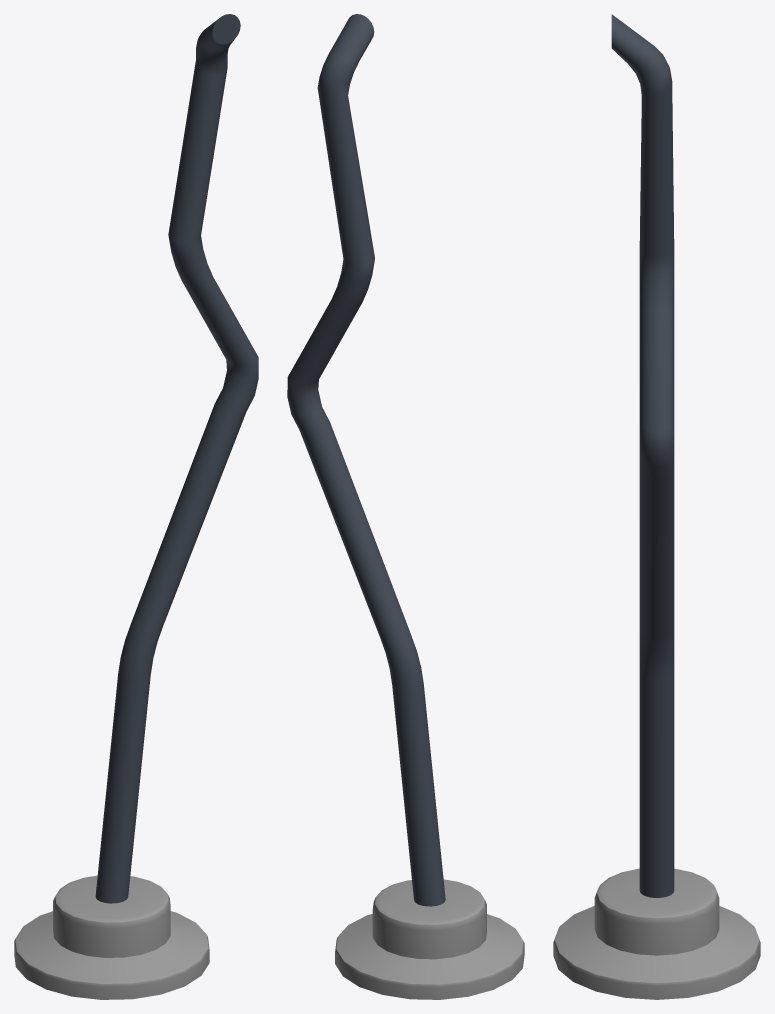
The model's file is Frame_panel_3.fbx.
3 views of the same model, side by side, from view 1: azimuth 30°, elevation 25°; view 2: azimuth 150°, elevation 25°; view 3: azimuth 270°, elevation 25° (orthographic). The views are drawn at different scales.
Visible parts, largest first — view 1: polySurface2; view 2: polySurface2; view 3: polySurface2.
Boxes of the visible parts, x1,y1,x2,y2 form: polySurface2: (14,14,258,999); polySurface2: (287,14,524,999); polySurface2: (553,14,760,999).
Size of the model in its own units: 37.33 by 145 by 27.64.
